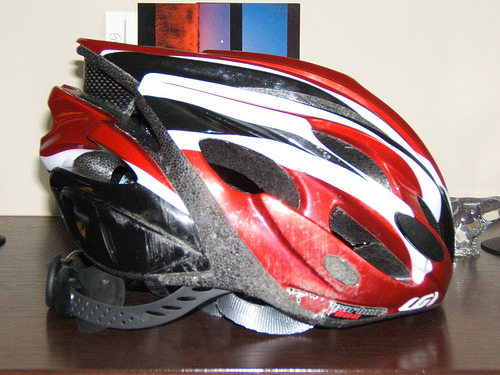helmet: (58, 48, 464, 311)
